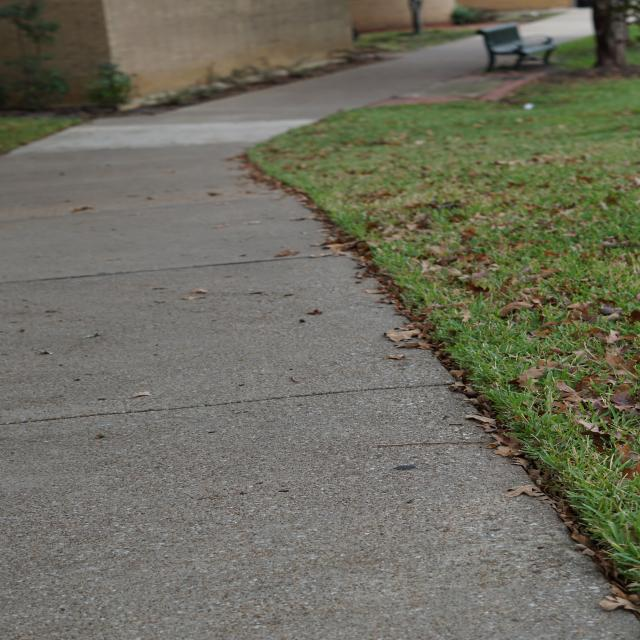Obstacle: (477, 25, 557, 71)
Sidewalk: (0, 36, 638, 640), (522, 8, 593, 42)
